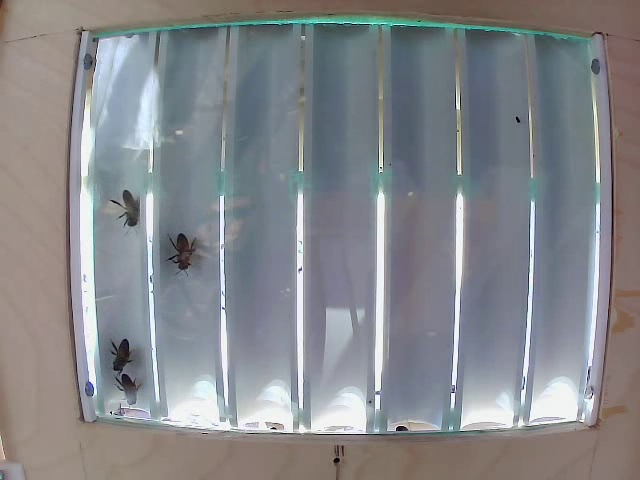bee: (166, 229, 204, 277), (124, 186, 160, 235), (115, 366, 153, 403), (104, 323, 139, 363)
